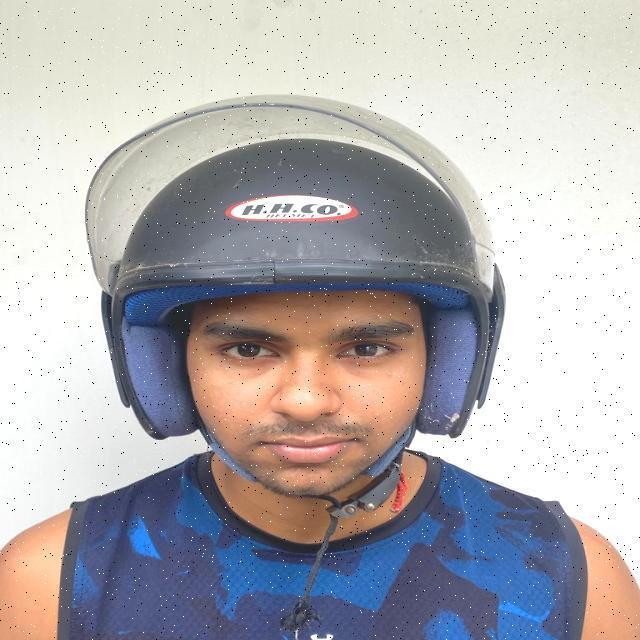helmet: (84, 90, 507, 635)
